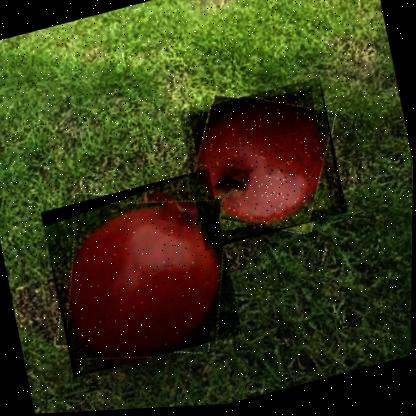pomegranate: (38, 169, 244, 381), (176, 79, 348, 254)
